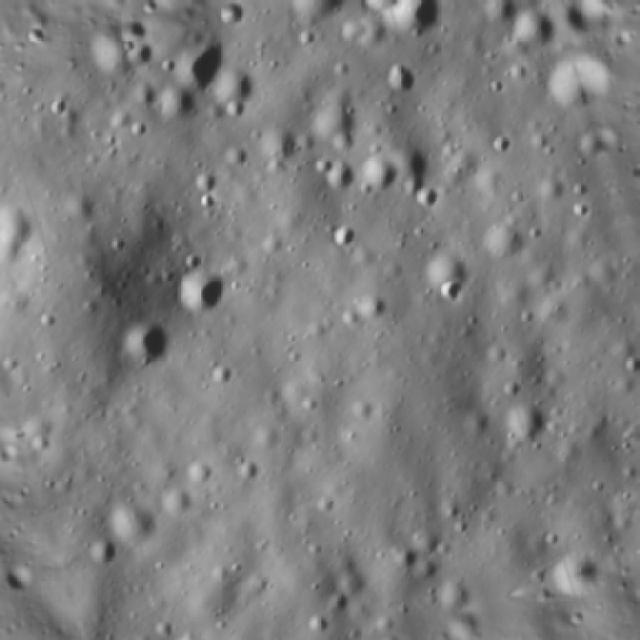crater: (167, 24, 244, 104), (410, 237, 481, 318), (174, 260, 243, 328), (494, 395, 558, 459), (116, 316, 182, 373), (382, 0, 453, 49), (358, 148, 410, 202), (510, 3, 562, 55), (376, 57, 426, 109), (322, 214, 366, 260), (317, 157, 363, 198), (480, 0, 525, 34), (80, 541, 118, 576), (178, 246, 211, 276), (154, 631, 218, 640)
